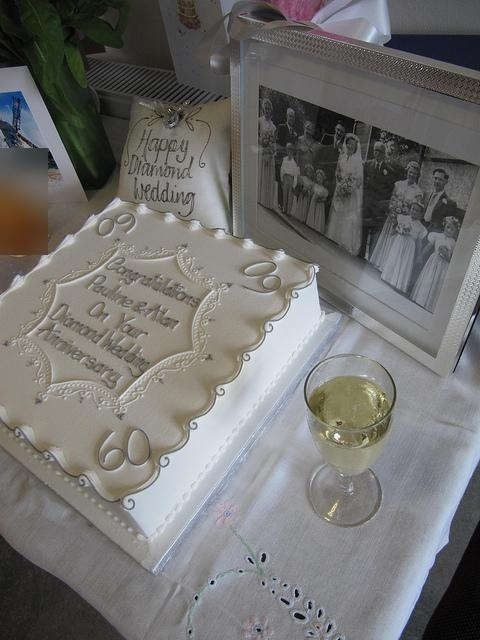glass-wine: (303, 353, 396, 530)
